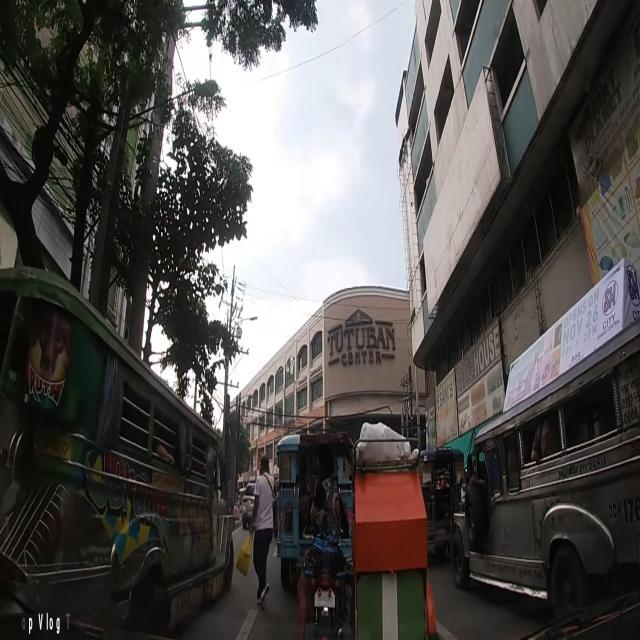car: (241, 482, 257, 530)
jeepney: (1, 270, 238, 636), (446, 258, 640, 640), (278, 432, 356, 588), (420, 446, 464, 568)
tricycle: (298, 420, 438, 640)
